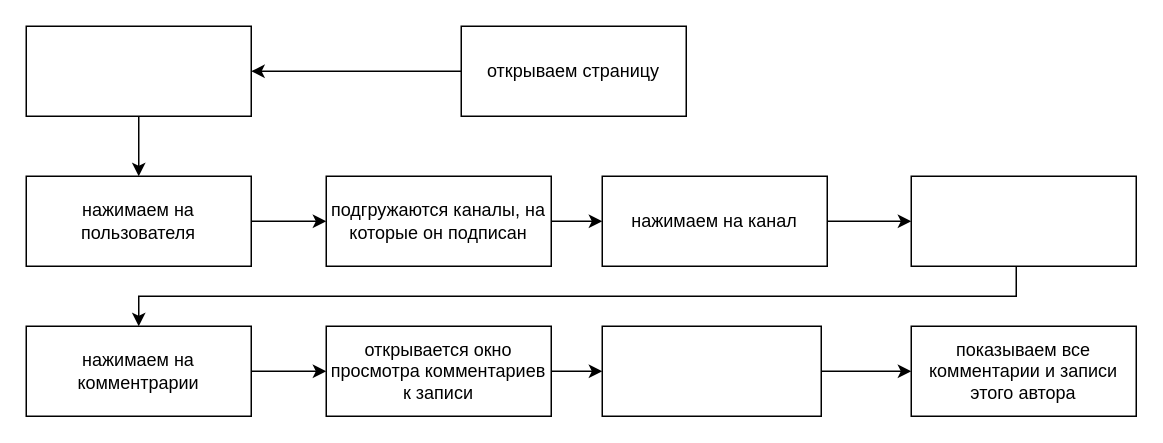
This 1163x443 diagram has some shape labels left out. The shapes that lost their labels are listed below. From the top down, each one's box as (x1, y1, x2, y2) in pixels, then its label:
(25, 25, 251, 116): загружаются пользователи
(910, 175, 1136, 266): загружаются последние 20 записей из базы данных
(601, 325, 821, 416): нажимаем на автора комментария
